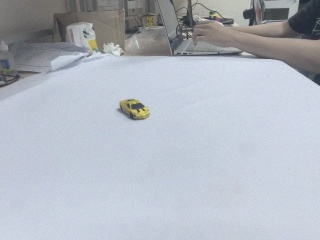box: (52, 9, 126, 54)
toy_car: (119, 99, 150, 120)
